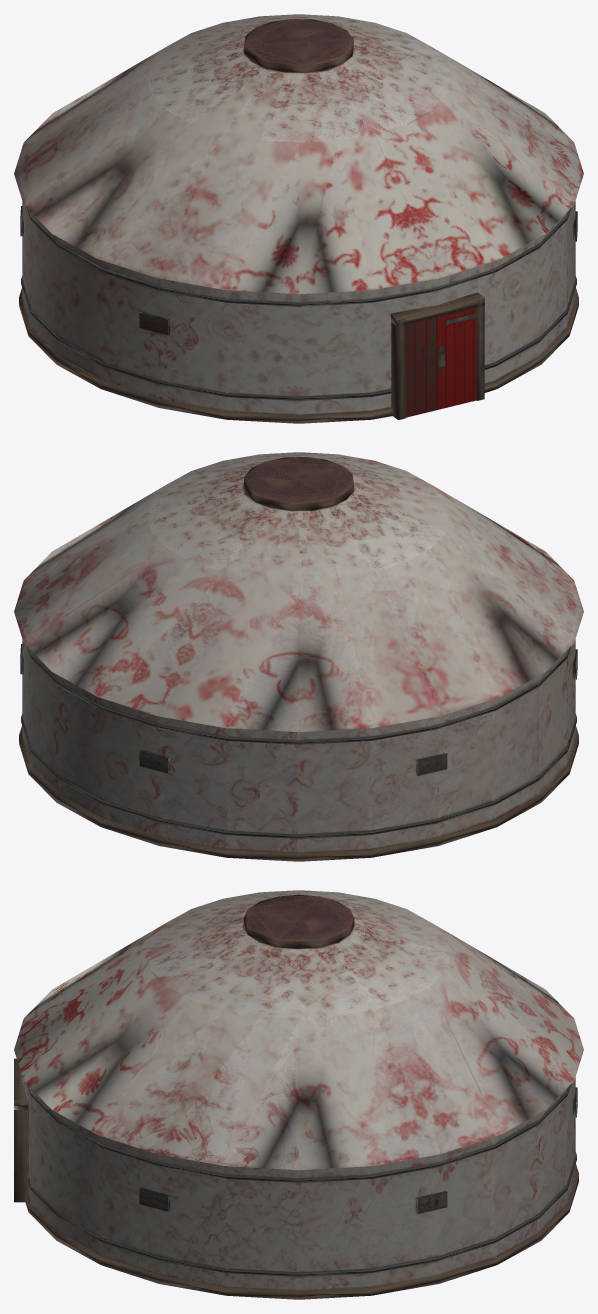
File: yurt_large.glb
The picture shows the model from 3 angles, top to bottom: view 1: azimuth 30°, elevation 25°; view 2: azimuth 150°, elevation 25°; view 3: azimuth 270°, elevation 25°; orthographic projection.
Parts seen in each view (by area): view 1: yurt_large; view 2: yurt_large; view 3: yurt_large.
Part boxes in pixels (x1,y1,x2,y2): yurt_large: [14, 14, 583, 423]; yurt_large: [14, 452, 583, 861]; yurt_large: [14, 890, 583, 1299].
Size of the model in its own units: 8.24 by 4.2 by 8.24.
Materials: 1 (1 with a texture image).
